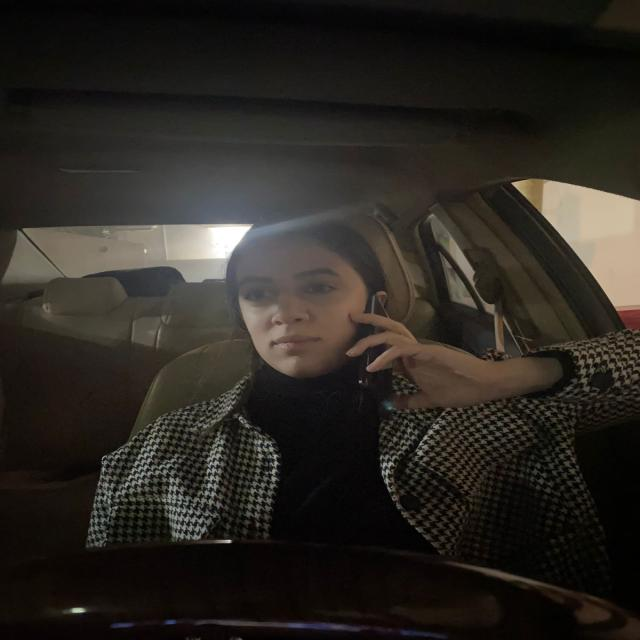phone: (358, 293, 394, 393)
